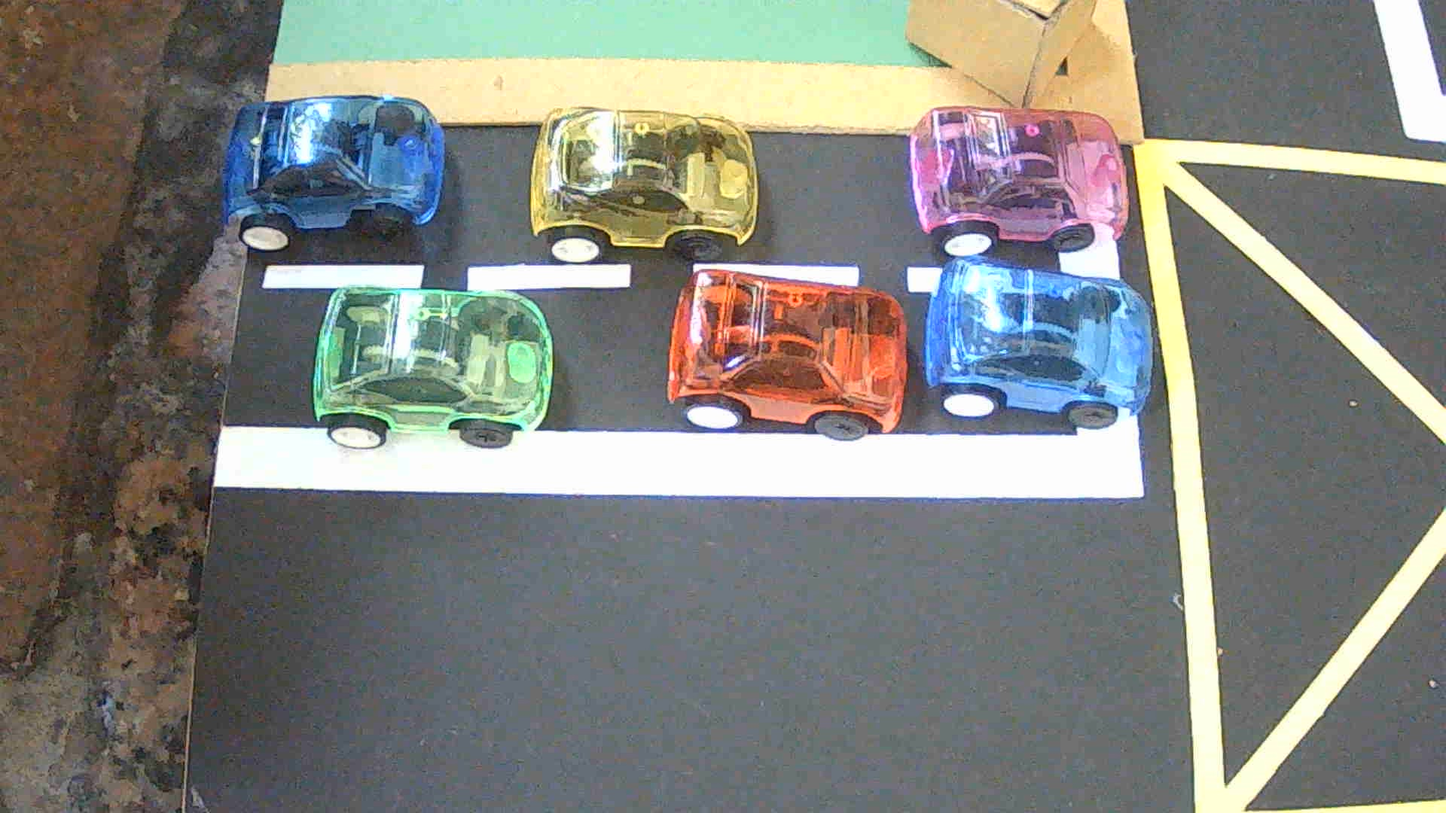Mobil biru: (922, 258, 1153, 428), (222, 95, 445, 250)
Mobil hijau: (313, 287, 552, 449)
Mobil kuning: (531, 107, 758, 262)
Mobil merah: (668, 268, 908, 440)
Mobil ungu: (911, 107, 1127, 257)
